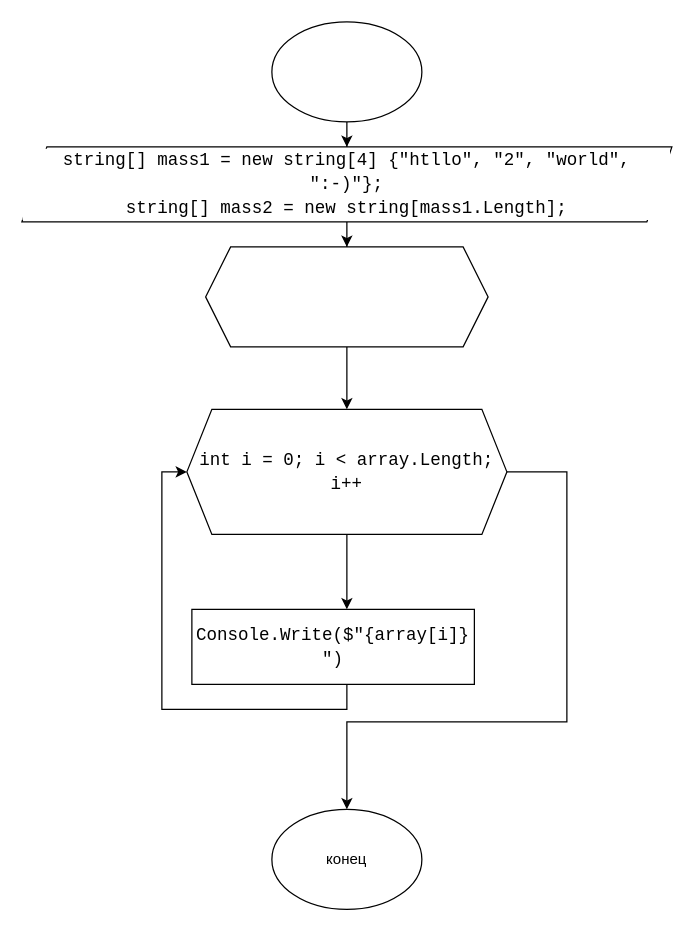
Some shapes in this 694 by 931 pixel diagram are drawn without their labels. Each missing label, with the centre of its shape:
"array1[i].Length <= 3" belongs at [346,296].
"начало" belongs at [346,71].
